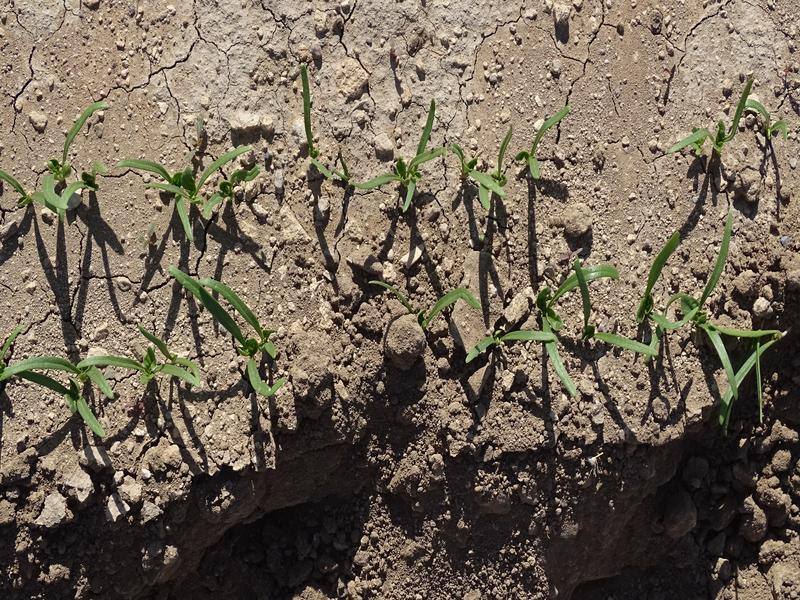Espinaca: (443, 273, 772, 427), (2, 275, 282, 430), (361, 109, 508, 218), (124, 145, 242, 236), (35, 97, 116, 218), (657, 99, 786, 161), (300, 78, 340, 183), (525, 108, 557, 181)
